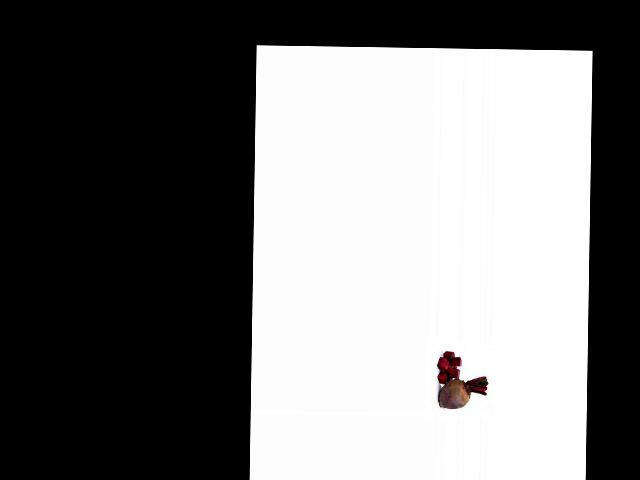beet: (438, 375, 487, 409)
